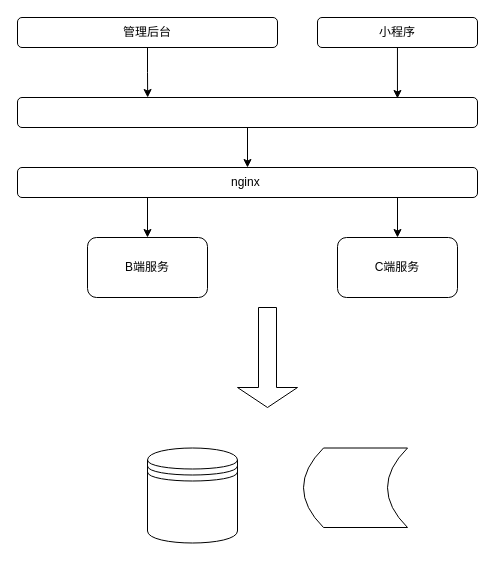
Image size: 495x561. Some labels were removed from this diagram. The centre of each missing label's shape, as x and y in pixels:
RDS: (x=192, y=495)
Redis: (x=355, y=487)
阿里云DNS: (x=247, y=112)
